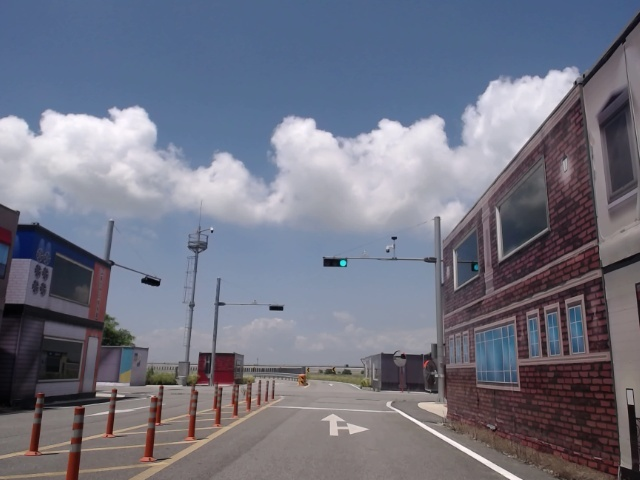green_3: (325, 259, 346, 267)
